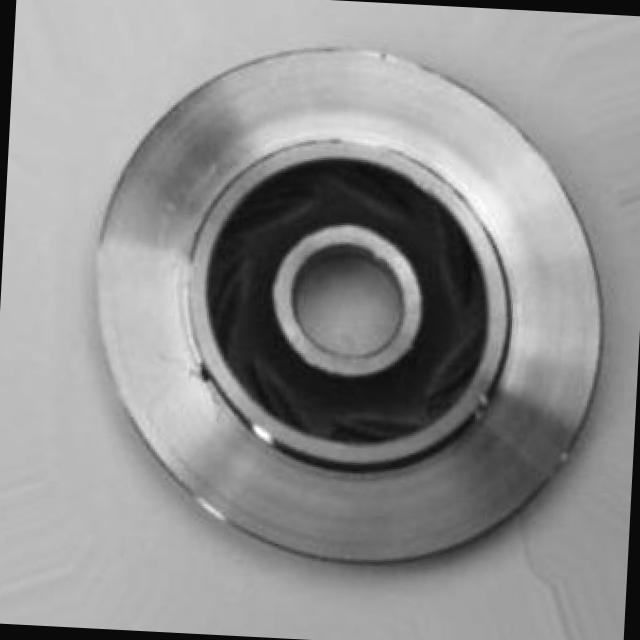Defect: (195, 357, 216, 386)
